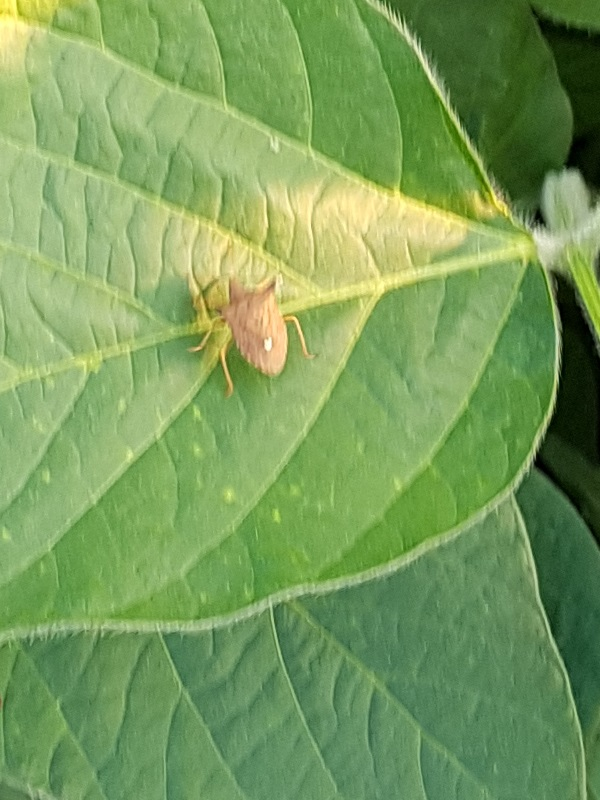Euschistus_heros_adulto: (177, 261, 327, 398)
